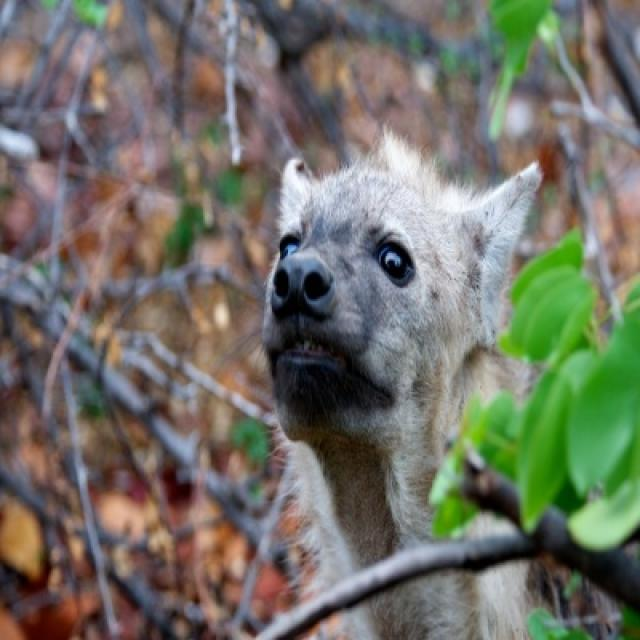hyena: (262, 142, 544, 581)
